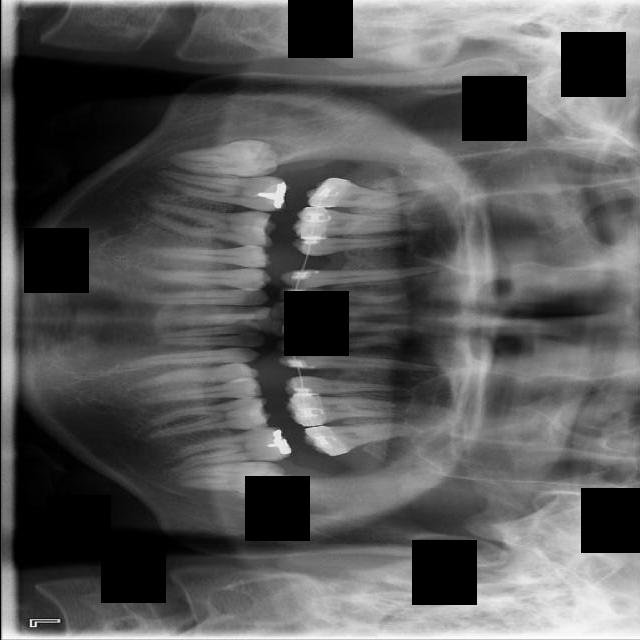52: (296, 416, 351, 468), (283, 390, 327, 430), (303, 177, 351, 209), (252, 172, 291, 210), (290, 206, 329, 240), (255, 181, 293, 214), (244, 212, 277, 245), (264, 427, 297, 458), (246, 400, 266, 427)
73: (44, 592, 48, 602)
BioHorizons Implant: (301, 422, 416, 458)
Biomet 3i Implant: (178, 452, 286, 499)
Blue Sky Bio Implant: (165, 424, 292, 474)
Caries: (303, 176, 414, 211)
Implant: (155, 170, 289, 213)
Keystone Dental Implant: (166, 136, 278, 178)
